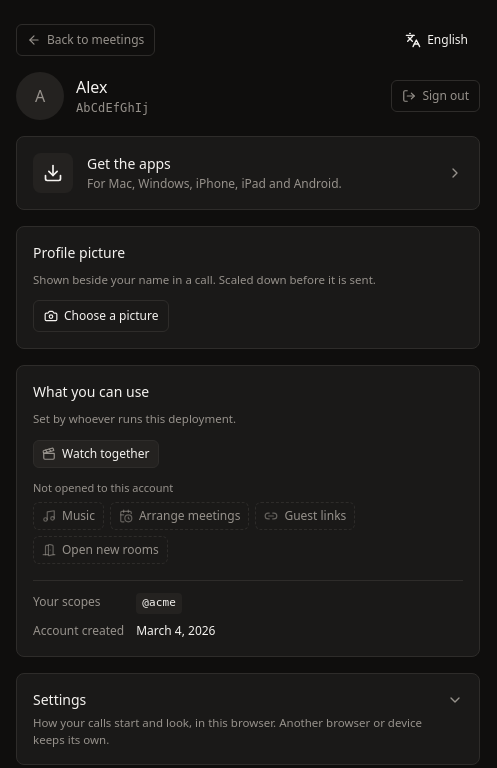
it: settings › offer the library's quality only to somebody who may fetch from it
Expected: the heading "What you can use" is shown, x1=33 y1=382 x2=149 y2=401
Click the button "Settings" at x=248, y=719, box x1=17 y1=674 x2=479 y2=764
(page scrolled)
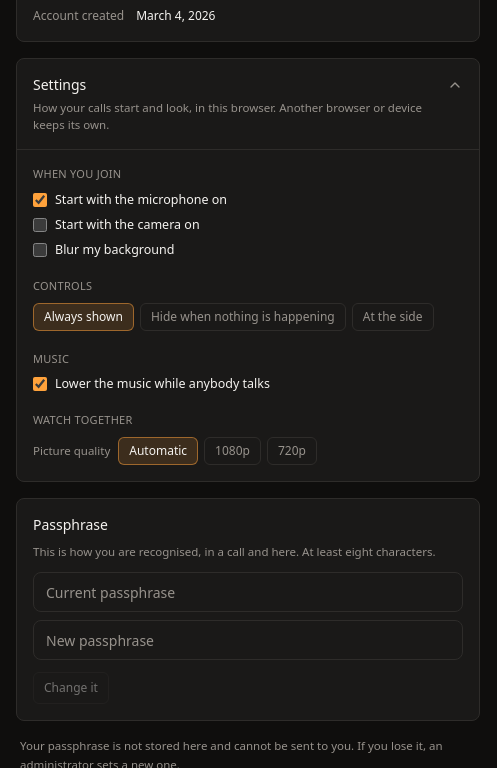
Now the checkbox labelled "Lower the music while anybody talks" is shown, box x1=33 y1=377 x2=47 y2=391
